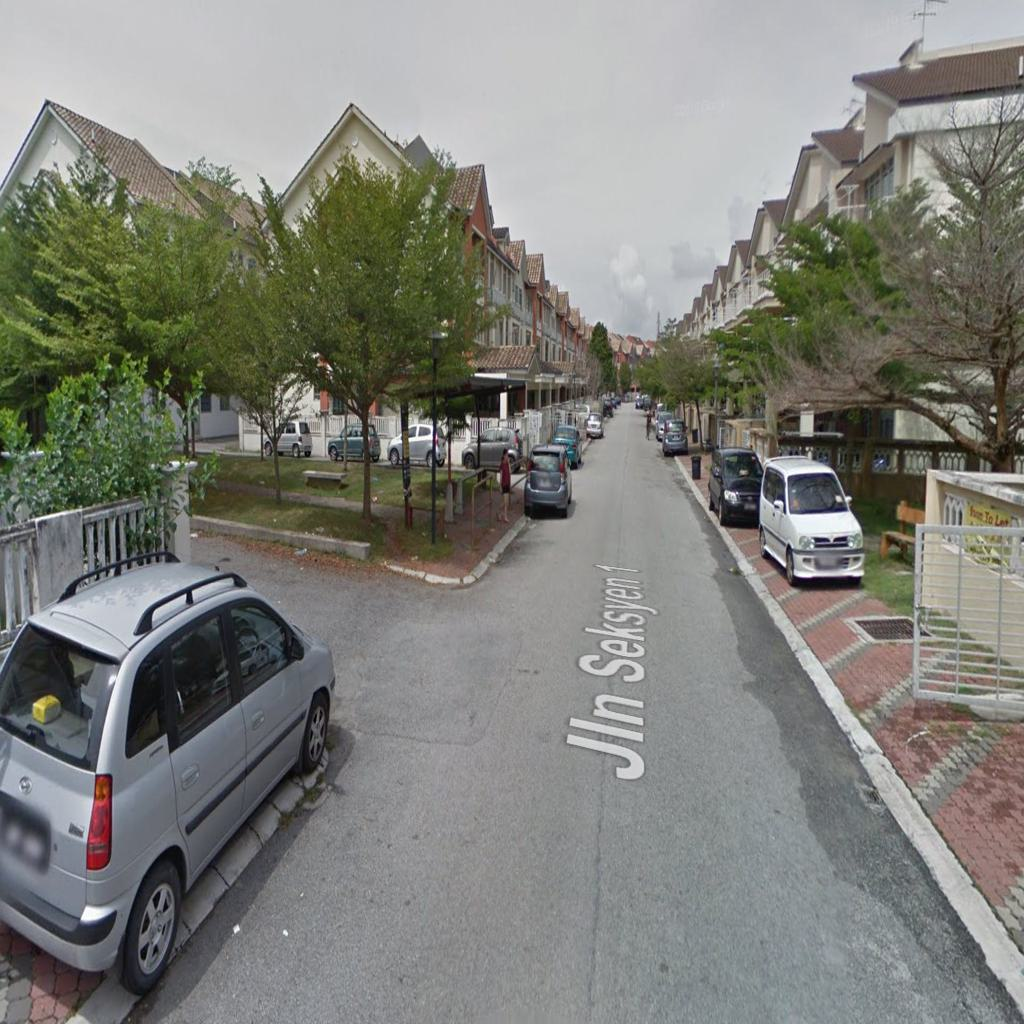Junction: (217, 516, 510, 743)
